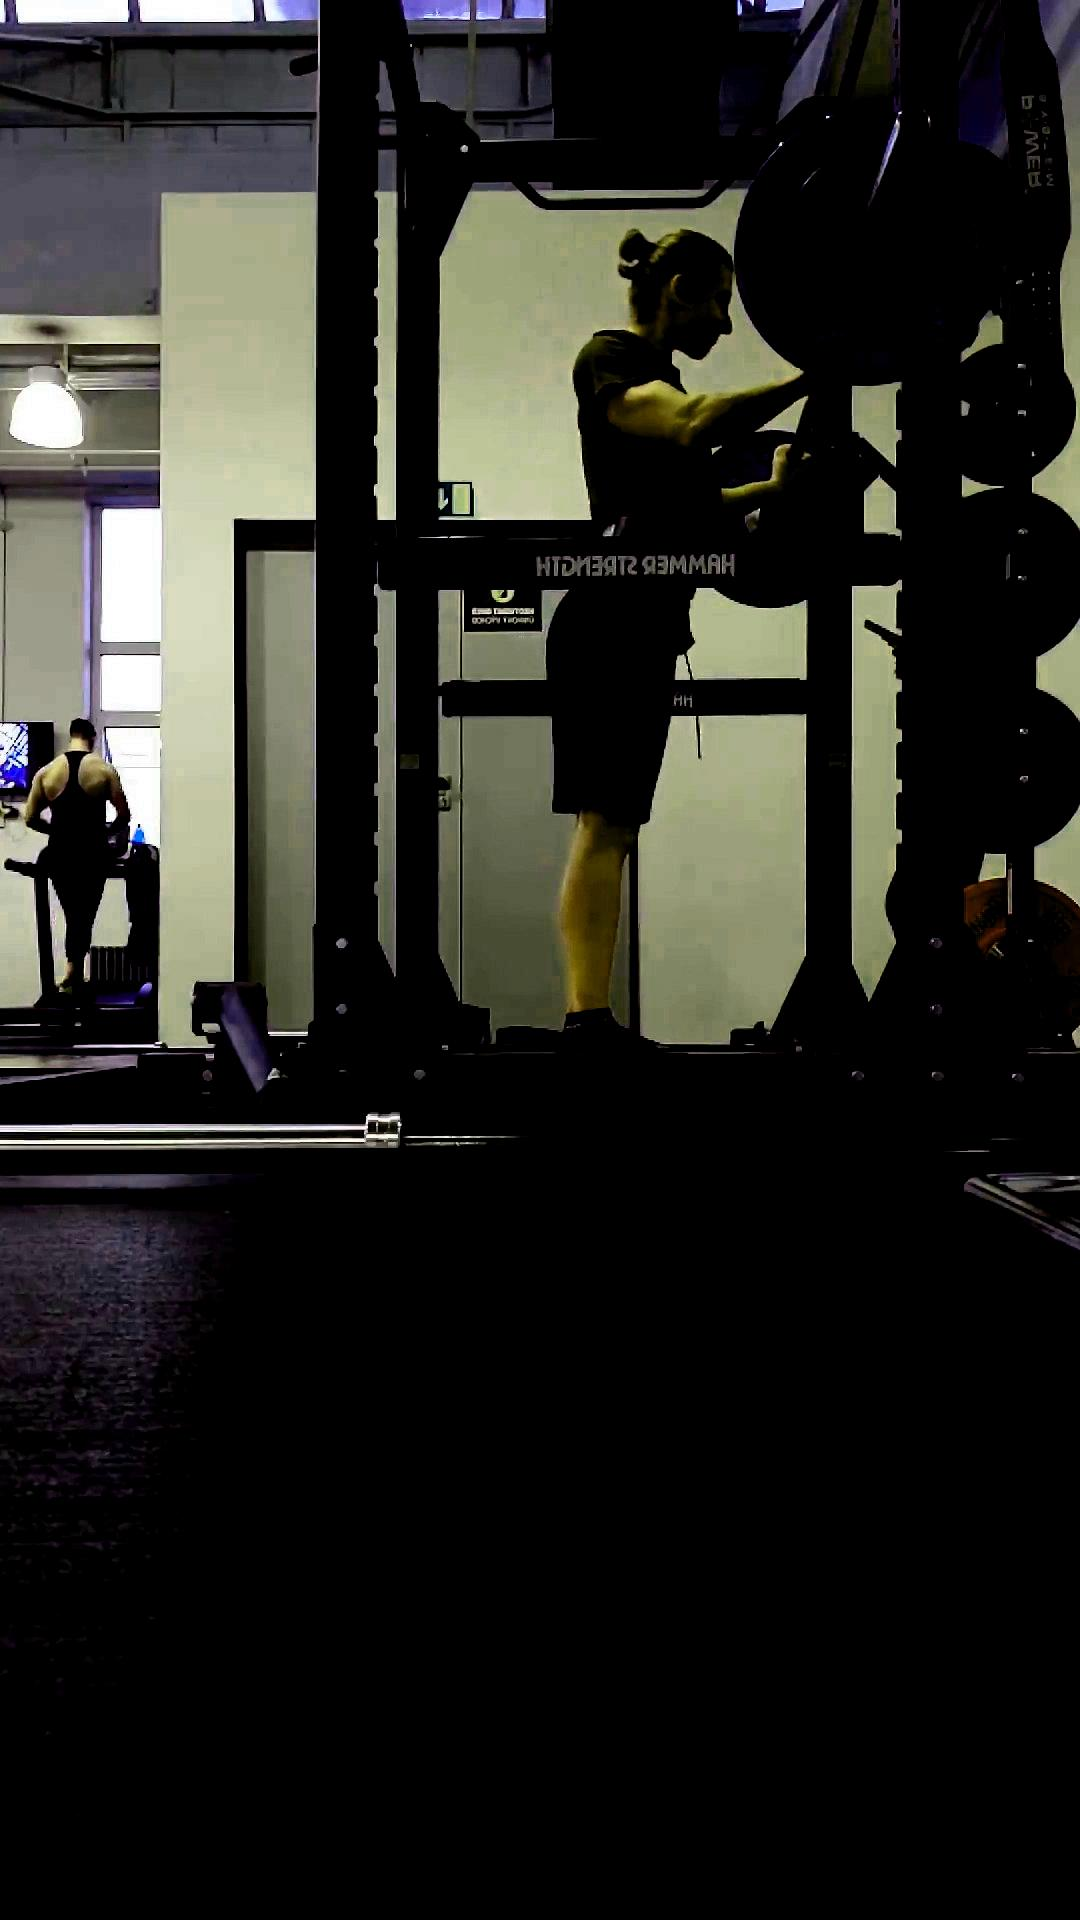barbell: (735, 109, 1005, 373)
